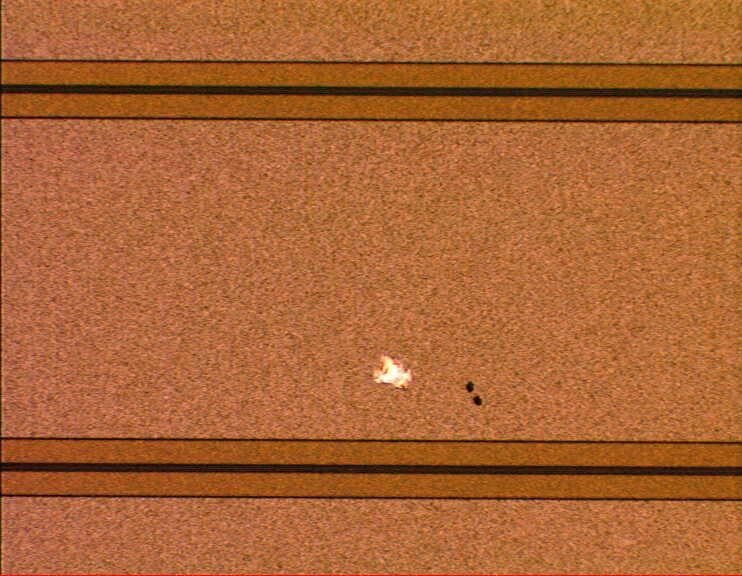SCRATCH: (365, 352, 495, 413)
